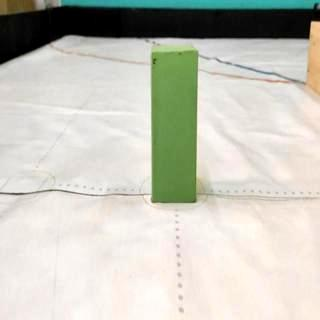greenbox: (151, 44, 198, 204)
